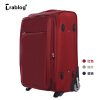shoutibox: (18, 10, 81, 97)
